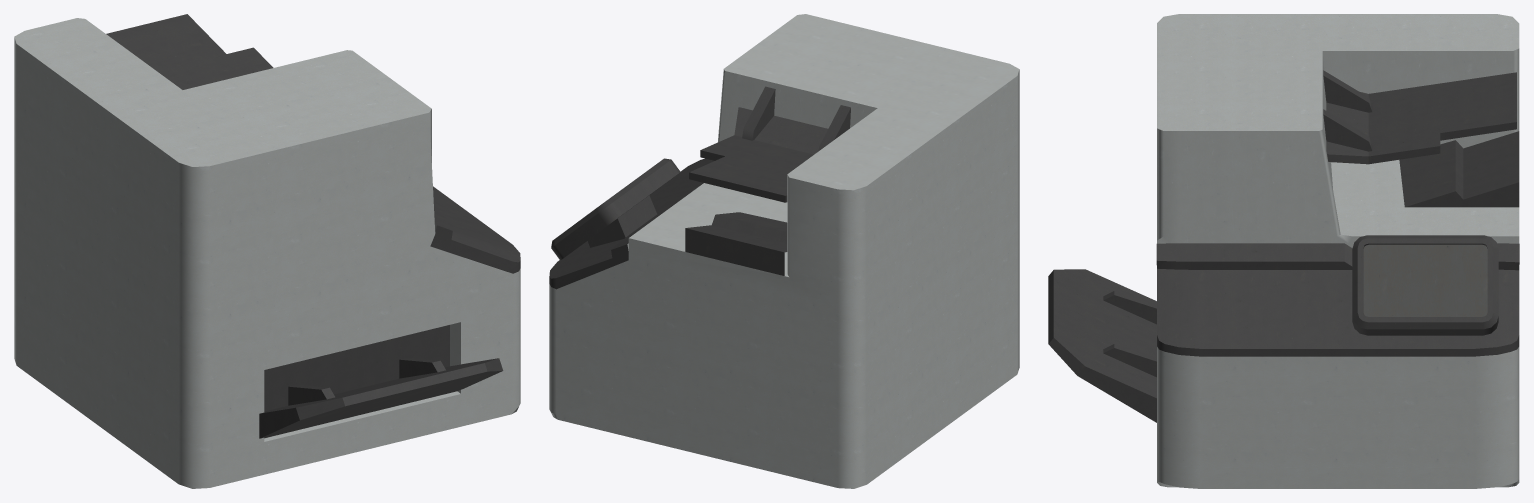
File: SM_printer_a_small.fbx
The picture shows the model from 3 angles, left to right: view 1: azimuth 30°, elevation 25°; view 2: azimuth 150°, elevation 25°; view 3: azimuth 270°, elevation 25°; orthographic projection. The views are drawn at different scales.
Visible parts, largest first — view 1: polySurface568, polySurface571; view 2: polySurface568, polySurface571; view 3: polySurface568, polySurface571, polySurface556.
Boxes of the visible parts, x1,y1,x2,y2 form: polySurface568: [14, 18, 520, 488]; polySurface571: [106, 14, 520, 438]; polySurface568: [549, 14, 1019, 488]; polySurface571: [549, 86, 850, 289]; polySurface568: [1157, 14, 1519, 488]; polySurface571: [1048, 70, 1519, 422]; polySurface556: [1363, 244, 1487, 316].
Size of the model in its own units: 0.821 by 0.7328 by 0.9928.
